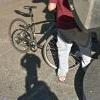bicycles: (9, 5, 84, 71)
